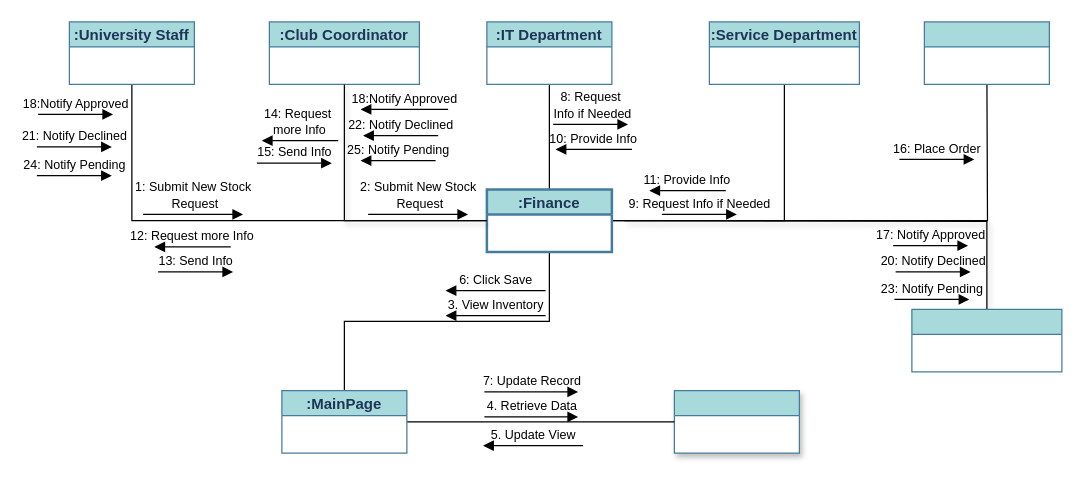
Some shapes in this 1084 by 484 pixel diagram are drawn without their labels. Each missing label, with the centre of its shape:
":Notification Service" goes at point 986,340.
":System" goes at point 737,423.
":Vendor" goes at point 986,52.
